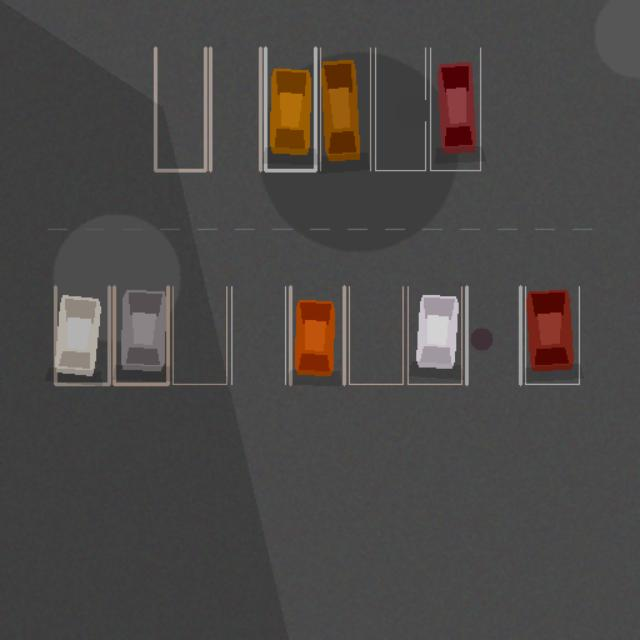space-empty: (155, 48, 205, 170), (210, 48, 260, 170), (375, 48, 425, 170), (172, 286, 226, 384), (231, 286, 285, 384), (466, 286, 520, 384), (349, 286, 402, 384)
space-occupied: (265, 48, 315, 170), (320, 48, 370, 170), (430, 48, 480, 170), (55, 286, 109, 384), (114, 286, 168, 384), (290, 286, 344, 384), (525, 286, 579, 384), (408, 286, 461, 384)
